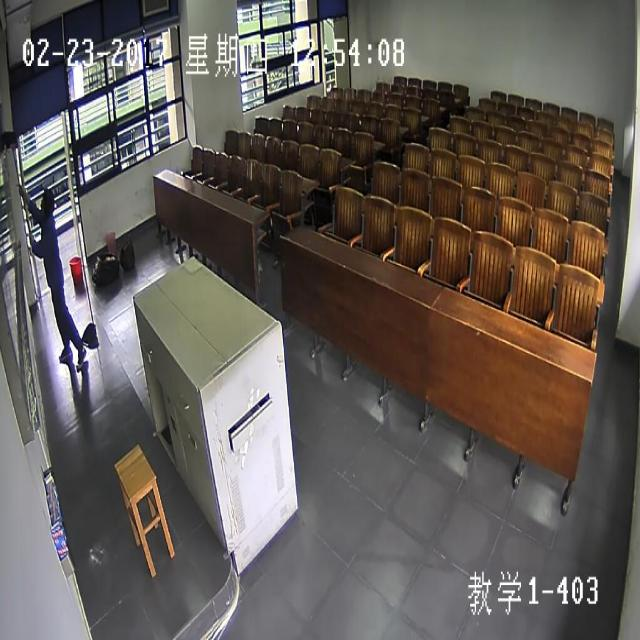person: (36, 186, 53, 215)
